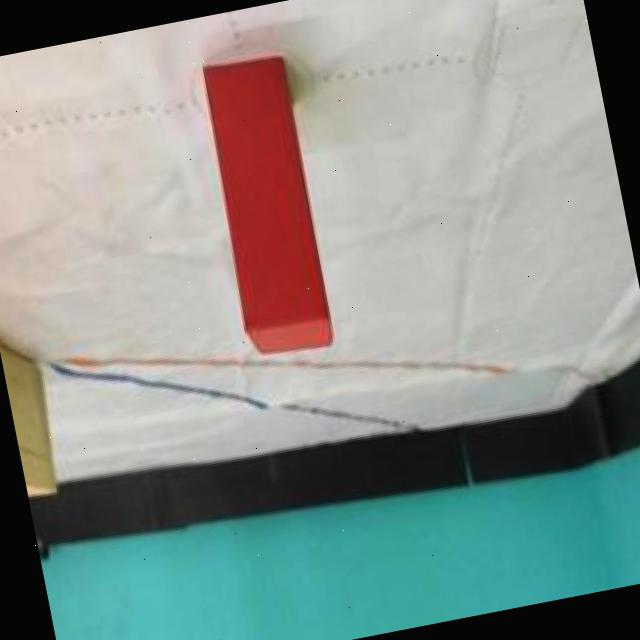redbox: (195, 49, 338, 356)
